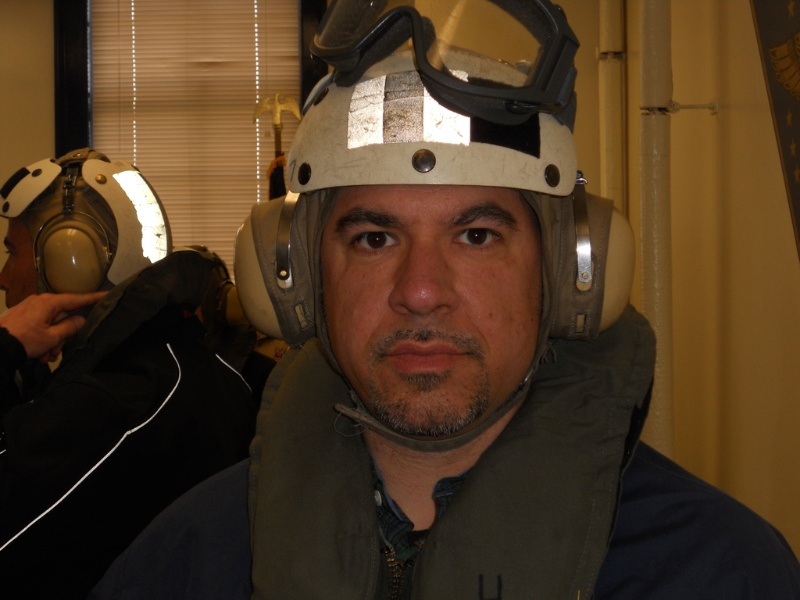helmet: (274, 17, 585, 203), (9, 146, 173, 268)
